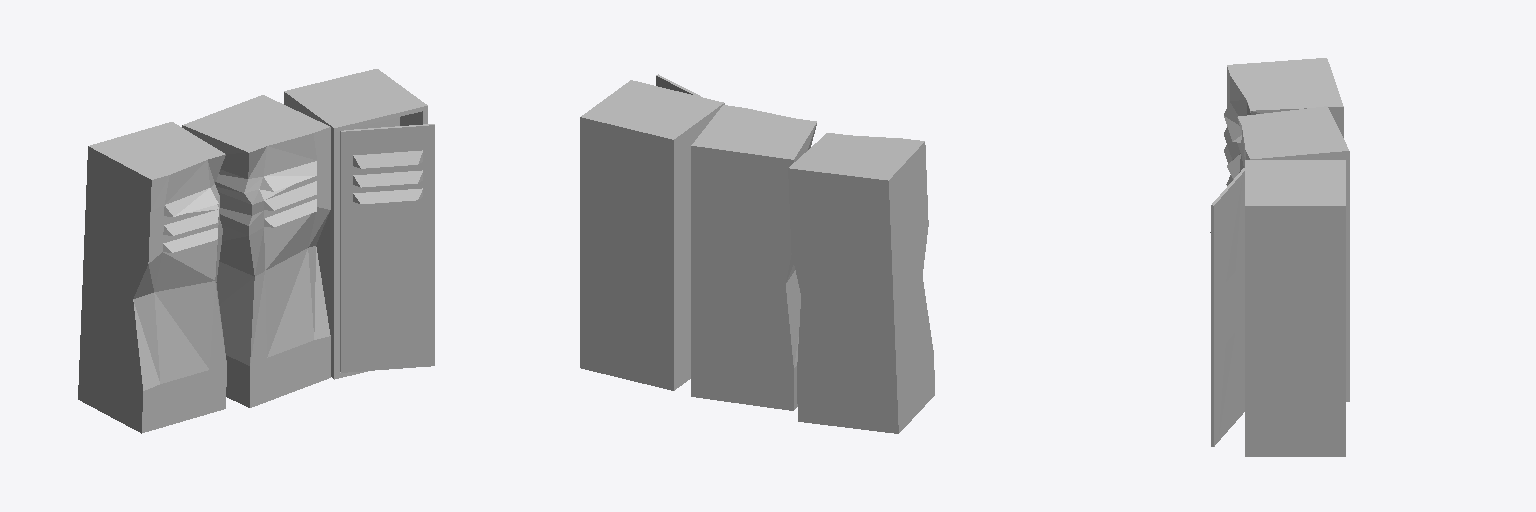
Rendered from 3_Spint2.obj.
3 renders of one model, left to right at view 1: azimuth 30°, elevation 25°; view 2: azimuth 150°, elevation 25°; view 3: azimuth 270°, elevation 25°, orthographic.
Visible parts, largest first — view 1: pCube5 polySurface2 polySurface6, pCube5 polySurface5 polySurface2, pCube5 polySurface4, polySurface3 pCube5; view 2: pCube5 polySurface2 polySurface6, polySurface3 pCube5, pCube5 polySurface5 polySurface2; view 3: polySurface3 pCube5, pCube5 polySurface4, pCube5 polySurface2 polySurface6, pCube5 polySurface5 polySurface2.
Boxes of the visible parts, x1,y1,x2,y2 form: pCube5 polySurface2 polySurface6: [78, 122, 226, 433]; pCube5 polySurface5 polySurface2: [182, 95, 330, 407]; pCube5 polySurface4: [340, 124, 434, 372]; polySurface3 pCube5: [284, 69, 427, 379]; pCube5 polySurface2 polySurface6: [788, 133, 934, 433]; polySurface3 pCube5: [580, 80, 724, 390]; pCube5 polySurface5 polySurface2: [691, 105, 816, 410]; polySurface3 pCube5: [1245, 160, 1345, 456]; pCube5 polySurface4: [1210, 168, 1244, 446]; pCube5 polySurface2 polySurface6: [1224, 58, 1343, 163]; pCube5 polySurface5 polySurface2: [1226, 106, 1349, 401].
Size of the model in its own units: 15.79 by 12.49 by 6.16.